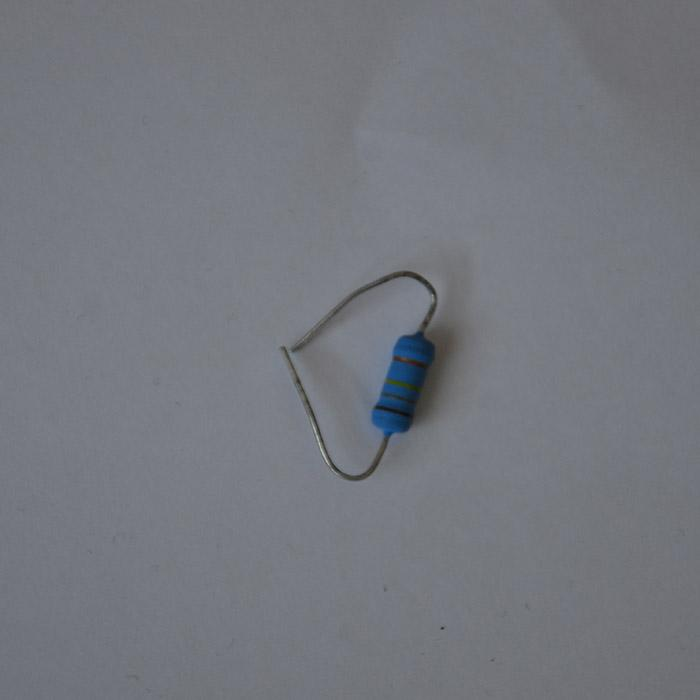resistor: (370, 330, 437, 436)
